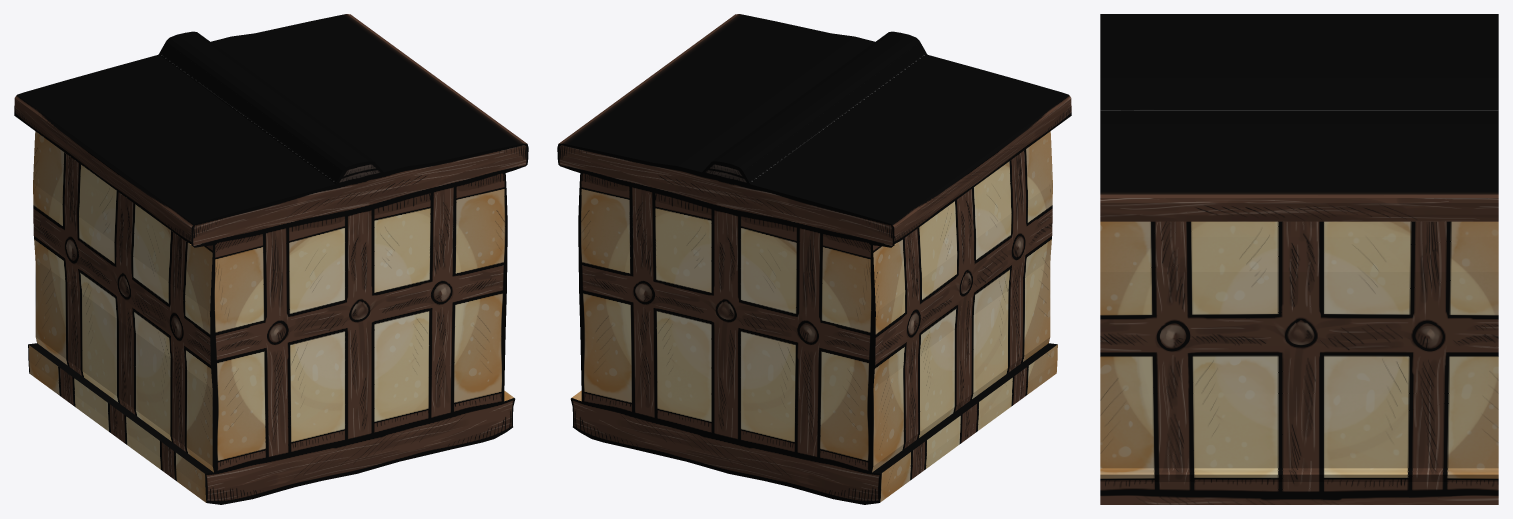
File: Lamp_Ceiling_side.fbx
3 views of the same model, side by side, from view 1: azimuth 30°, elevation 25°; view 2: azimuth 150°, elevation 25°; view 3: azimuth 270°, elevation 25° (orthographic). The views are drawn at different scales.
Visible parts, largest first — view 1: Lamp_Ceiling_side; view 2: Lamp_Ceiling_side; view 3: Lamp_Ceiling_side.
Boxes of the visible parts, box(x1,y1,x2,y2) form: Lamp_Ceiling_side: box(14, 14, 528, 504); Lamp_Ceiling_side: box(557, 14, 1071, 504); Lamp_Ceiling_side: box(1100, 14, 1498, 504).
Bounding box in the file's own units: 98.66 × 86.77 × 89.75.
1 material, 1 textured.
